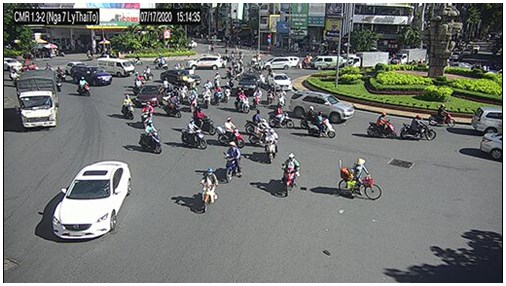xe_dap: (332, 156, 382, 202)
xe_hoi: (51, 160, 133, 239), (472, 105, 502, 134), (69, 65, 112, 85), (233, 72, 261, 95), (481, 132, 502, 161), (159, 71, 200, 85), (187, 56, 223, 70), (265, 72, 292, 90), (262, 57, 292, 71), (3, 57, 22, 71)
xe_khach: (97, 57, 135, 78), (311, 55, 345, 71)
xe_may: (401, 115, 436, 143), (216, 117, 245, 149), (200, 169, 219, 213), (181, 118, 207, 150), (223, 141, 242, 184), (366, 114, 397, 140), (308, 111, 335, 138), (139, 120, 161, 153), (193, 104, 215, 136), (282, 152, 298, 195), (246, 108, 270, 136), (249, 123, 278, 146), (268, 105, 295, 129), (430, 104, 455, 127), (262, 128, 277, 164), (298, 106, 322, 128), (164, 92, 181, 118), (121, 94, 136, 120), (234, 89, 250, 113), (141, 102, 154, 129), (152, 54, 168, 71), (77, 77, 91, 96), (252, 87, 263, 108), (267, 82, 277, 105), (277, 87, 287, 110), (214, 81, 223, 106), (133, 72, 143, 92), (141, 64, 152, 82), (202, 86, 211, 108), (302, 53, 314, 69), (189, 89, 197, 112), (12, 68, 19, 87), (56, 67, 65, 80), (225, 80, 230, 103)
xe_tai: (15, 71, 59, 129), (347, 53, 389, 68), (393, 48, 428, 63)
